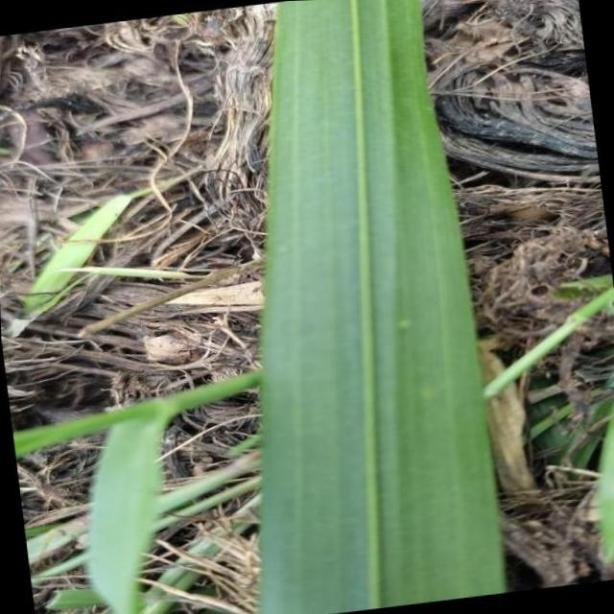Healthy: (263, 5, 500, 604)
